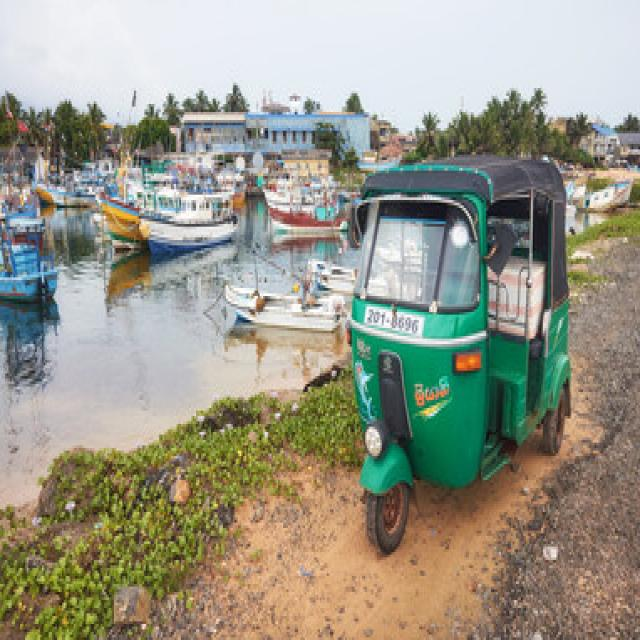three wheeler: (350, 155, 570, 552)
